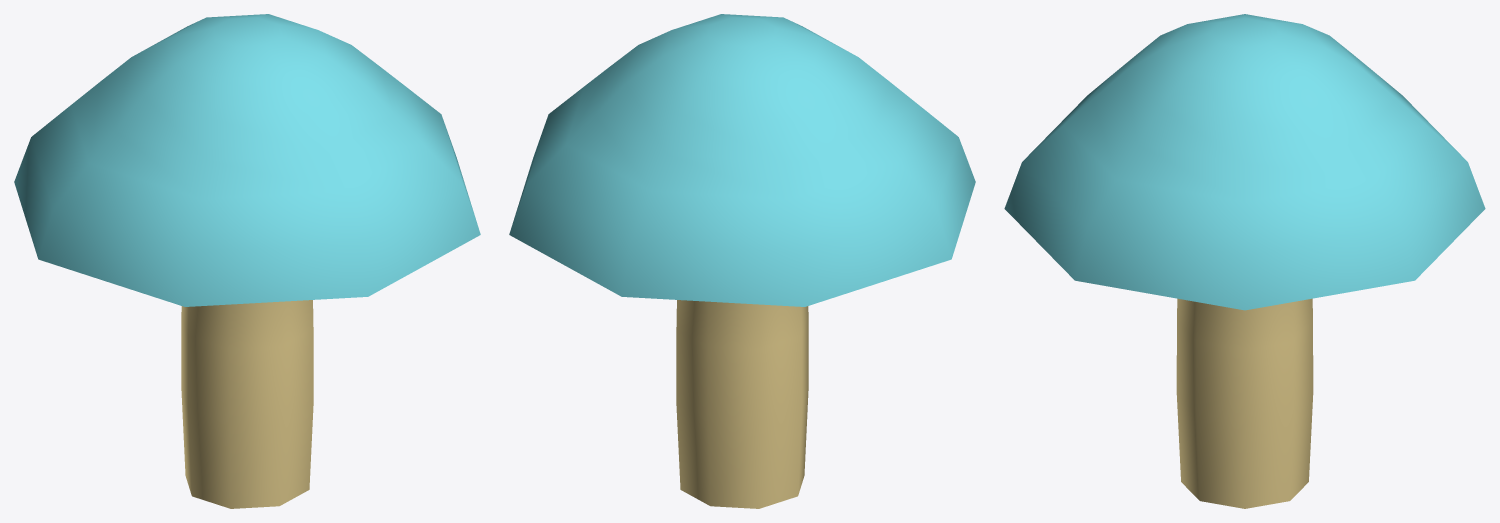
The model's file is Fungo 2.fbx.
3 renders of one model, left to right at view 1: azimuth 30°, elevation 25°; view 2: azimuth 150°, elevation 25°; view 3: azimuth 270°, elevation 25°, orthographic.
Parts seen in each view (by area): view 1: Circle.079; view 2: Circle.079; view 3: Circle.079.
Boxes of the visible parts, left/top/right/bottom form: Circle.079: left=14, top=14, right=480, bottom=508; Circle.079: left=509, top=14, right=975, bottom=508; Circle.079: left=1004, top=14, right=1485, bottom=508.
Size of the model in its own units: 41.39 by 43.16 by 41.39.
